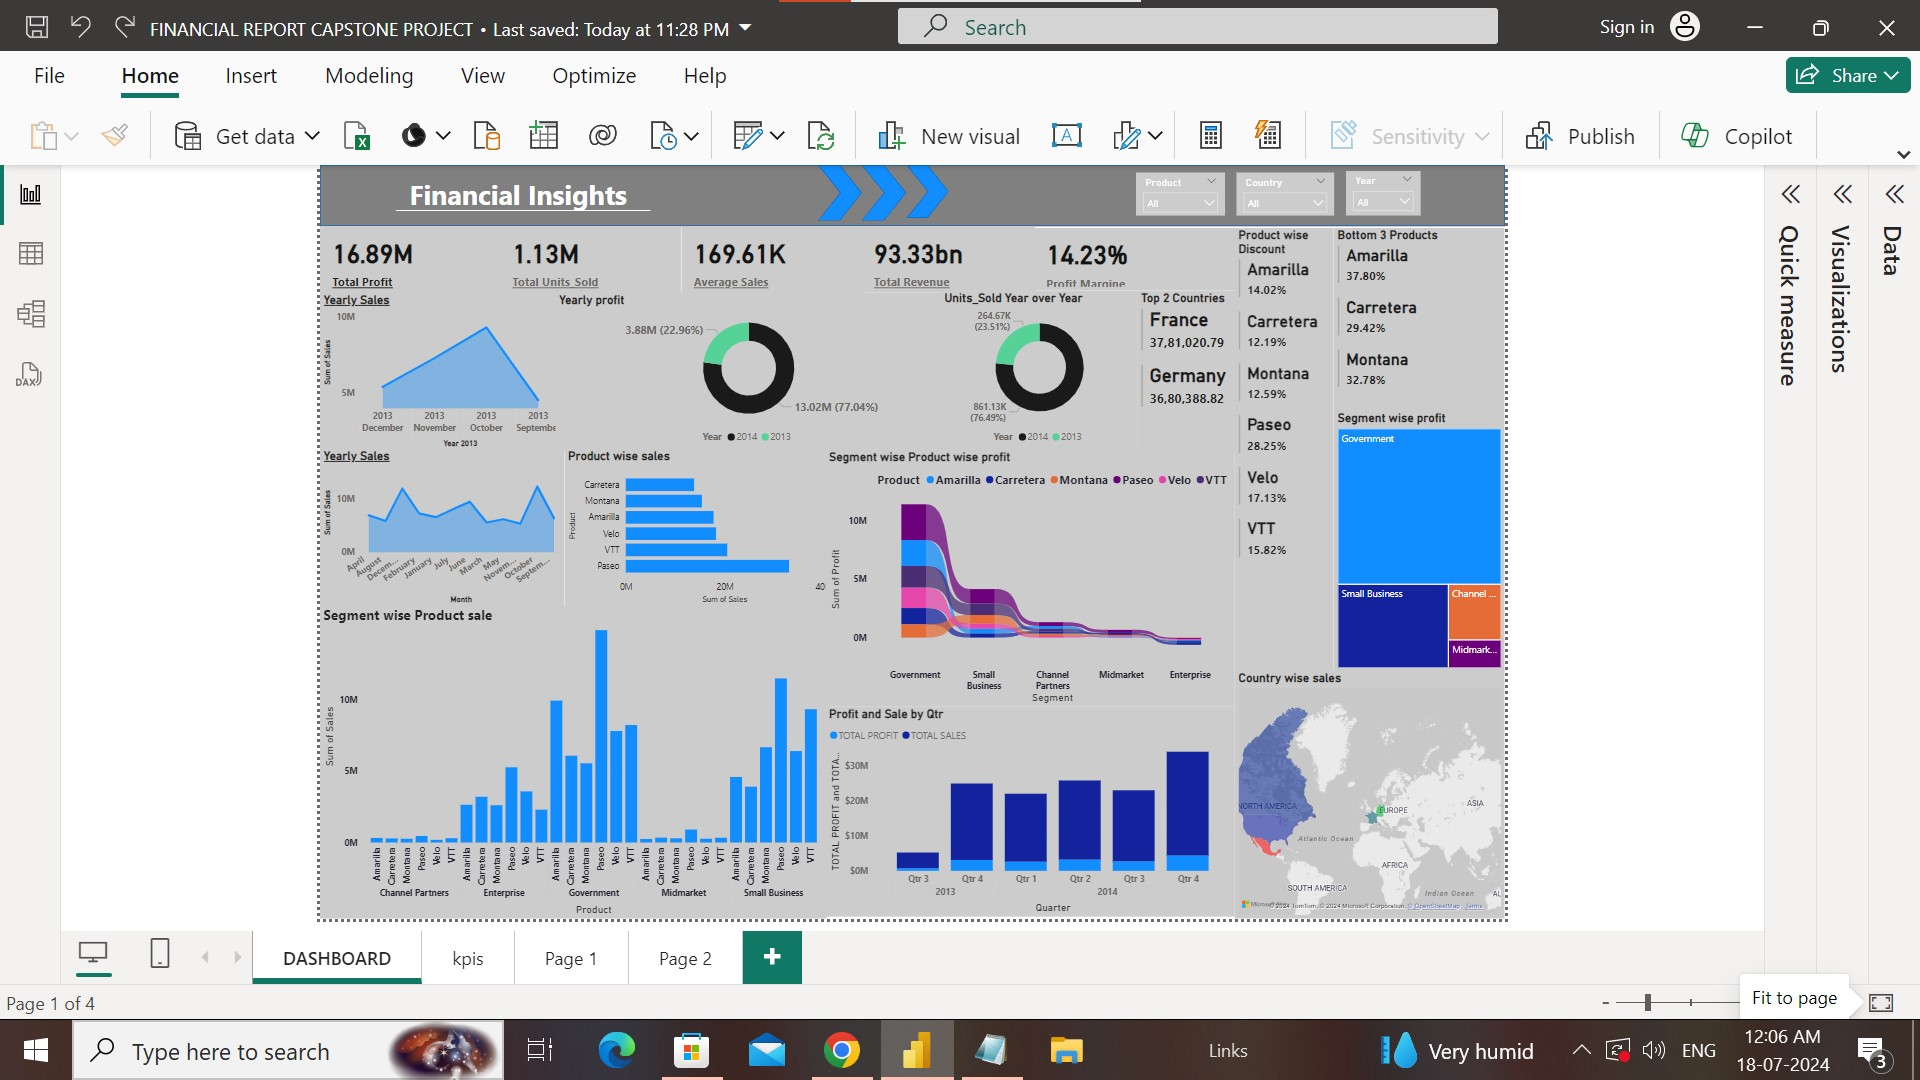

Layout of this report page (visuals, bound fields, positions):
{"tool":"powerbi","page":{"name":"DASHBOARD","canvas":[1650,1050],"ordinal":0},"visuals":[{"type":"textbox","box":[9,0,1270,55],"z":0},{"type":"clusteredBarChart","title":"Product wise sales","fields":{"Category":["wcfds.Product"],"Y":["Sum(wcfds.Sales)"]},"box":[340,395,377.5,220],"z":1000},{"type":"shape","box":[0,0,1650,85],"z":2000},{"type":"textbox","box":[0,10,552,66],"z":3000},{"type":"textbox","box":[100,42,404,64],"z":4000},{"type":"cardVisual","fields":{"Data":["Sum(wcfds.Profit)"]},"box":[0,85,251.7,93.3],"z":5000},{"type":"cardVisual","fields":{"Data":["Sum(wcfds.Units_Sold)"]},"box":[251.7,85,251.7,93.3],"z":6000},{"type":"cardVisual","fields":{"Data":["Avg(wcfds.Sales)"]},"box":[503.3,85,251.7,93.3],"z":7000},{"type":"cardVisual","fields":{"Data":["wcfds.Units_Sold x Sale_Price"]},"box":[754.1,85.6,242.3,94],"z":8000},{"type":"cardVisual","fields":{"Data":["wcfds.profit margine"]},"box":[994.3,87.7,279.9,91.9],"z":9000},{"type":"treemap","title":"Segment wise profit","fields":{"Group":["wcfds.Segment"],"Values":["Sum(wcfds.Profit)"]},"box":[1412.5,342.5,237.5,362.5],"z":10000},{"type":"filledMap","title":"Country wise sales","fields":{"Category":["wcfds.Country"]},"box":[1275,705,375,345],"z":11000},{"type":"columnChart","title":"Profit and Sale by Qtr","fields":{"Category":["wcfds.Date.Variation.Date Hierarchy.Year","wcfds.Date.Variation.Date Hierarchy.Quarter"],"Y":["wcfds.TOTAL PROFIT","wcfds.TOTAL SALES"]},"box":[705,755,570,292.5],"z":12000},{"type":"stackedAreaChart","title":"Yearly Sales","fields":{"Category":["wcfds.Month_Name","wcfds.Year"],"Y":["Sum(wcfds.Sales)"]},"box":[0,177.5,337.5,220],"z":13000},{"type":"stackedAreaChart","title":"Yearly Sales","fields":{"Category":["wcfds.Month_Name","wcfds.Year"],"Y":["Sum(wcfds.Sales)"]},"box":[0,395,340,220],"z":14000},{"type":"donutChart","title":"Yearly profit","fields":{"Category":["wcfds.Year"],"Y":["Sum(wcfds.Profit)"]},"box":[328,175.5,536.8,219.3],"z":15000},{"type":"donutChart","title":"Units_Sold  Year over Year","fields":{"Category":["wcfds.Year"],"Y":["Sum(wcfds.Units_Sold)"]},"box":[864.8,179.6,273.6,219.3],"z":16000},{"type":"multiRowCard","title":"Top 2 Countries ","fields":{"Values":["wcfds.Country","Sum(wcfds.Profit)"]},"box":[1138.5,179.6,142,219.3],"z":17000},{"type":"multiRowCard","title":"Bottom 3 Products","fields":{"Values":["wcfds.Product","Sum(wcfds.Sales)"]},"box":[1412.5,87.5,237.5,255],"z":18000},{"type":"multiRowCard","title":"Product wise Discount","fields":{"Values":["wcfds.Product","Divide(Sum(wcfds.Discounts), ScopedEval(Sum(wcfds.Discounts), []))"]},"box":[1275,87.5,137.5,617.5],"z":19000},{"type":"ribbonChart","title":"Segment wise Product wise profit","fields":{"Category":["wcfds.Segment"],"Y":["Sum(wcfds.Profit)"],"Series":["wcfds.Product"]},"box":[705,397.5,570,357.5],"z":20000},{"type":"columnChart","title":"Segment wise Product sale","fields":{"Category":["wcfds.Segment","wcfds.Product"],"Y":["Sum(wcfds.Sales)"]},"box":[0,615,705,435],"z":21000},{"type":"slicer","fields":{"Values":["wcfds.Year"]},"box":[1428,8,104,62],"z":22000},{"type":"slicer","fields":{"Values":["wcfds.Country"]},"box":[1276,10,136,60],"z":23000},{"type":"slicer","fields":{"Values":["wcfds.Product"]},"box":[1136,10,124,60],"z":24000},{"type":"shape","box":[693.8,0,61.2,77.5],"z":25000},{"type":"shape","box":[816.2,0,58.8,73.8],"z":26000},{"type":"shape","box":[753.8,0,62.5,77.5],"z":27000}]}

Visuals, with their boxes on the page's 1650x1050 design canvas (x1, y1, x2, y2). These are canvas units, not pixel positions in the 1920x1080 screenshot, which may show the page scaled, cropped or inside an application window:
textbox: pyautogui.locateOnScreen(9, 0, 1279, 55)
"Product wise sales" clusteredBarChart: pyautogui.locateOnScreen(340, 395, 718, 615)
shape: pyautogui.locateOnScreen(0, 0, 1650, 85)
textbox: pyautogui.locateOnScreen(0, 10, 552, 76)
textbox: pyautogui.locateOnScreen(100, 42, 504, 106)
cardVisual - Sum(wcfds.Profit): pyautogui.locateOnScreen(0, 85, 252, 178)
cardVisual - Sum(wcfds.Units_Sold): pyautogui.locateOnScreen(252, 85, 503, 178)
cardVisual - Avg(wcfds.Sales): pyautogui.locateOnScreen(503, 85, 755, 178)
cardVisual - wcfds.Units_Sold x Sale_Price: pyautogui.locateOnScreen(754, 86, 996, 180)
cardVisual - wcfds.profit margine: pyautogui.locateOnScreen(994, 88, 1274, 180)
"Segment wise profit" treemap: pyautogui.locateOnScreen(1412, 342, 1650, 705)
"Country wise sales" filledMap: pyautogui.locateOnScreen(1275, 705, 1650, 1050)
"Profit and Sale by Qtr" columnChart: pyautogui.locateOnScreen(705, 755, 1275, 1048)
"Yearly Sales" stackedAreaChart: pyautogui.locateOnScreen(0, 178, 338, 398)
"Yearly Sales" stackedAreaChart: pyautogui.locateOnScreen(0, 395, 340, 615)
"Yearly profit" donutChart: pyautogui.locateOnScreen(328, 176, 865, 395)
"Units_Sold  Year over Year" donutChart: pyautogui.locateOnScreen(865, 180, 1138, 399)
"Top 2 Countries " multiRowCard: pyautogui.locateOnScreen(1138, 180, 1280, 399)
"Bottom 3 Products" multiRowCard: pyautogui.locateOnScreen(1412, 88, 1650, 342)
"Product wise Discount" multiRowCard: pyautogui.locateOnScreen(1275, 88, 1412, 705)
"Segment wise Product wise profit" ribbonChart: pyautogui.locateOnScreen(705, 398, 1275, 755)
"Segment wise Product sale" columnChart: pyautogui.locateOnScreen(0, 615, 705, 1050)
slicer - wcfds.Year: pyautogui.locateOnScreen(1428, 8, 1532, 70)
slicer - wcfds.Country: pyautogui.locateOnScreen(1276, 10, 1412, 70)
slicer - wcfds.Product: pyautogui.locateOnScreen(1136, 10, 1260, 70)
shape: pyautogui.locateOnScreen(694, 0, 755, 78)
shape: pyautogui.locateOnScreen(816, 0, 875, 74)
shape: pyautogui.locateOnScreen(754, 0, 816, 78)
